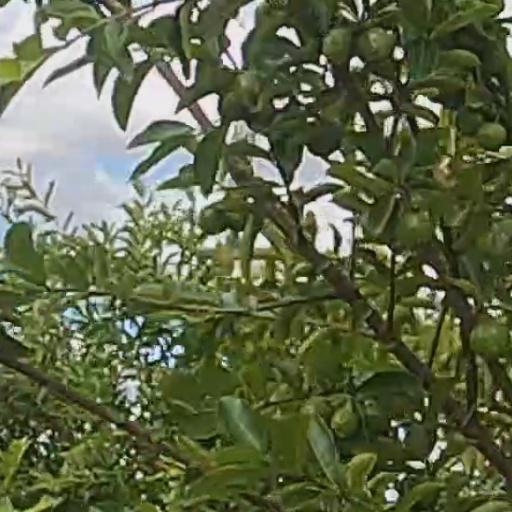acerola: (470, 318, 508, 355), (361, 28, 393, 63), (323, 28, 350, 65), (475, 123, 505, 152), (200, 209, 224, 235)
